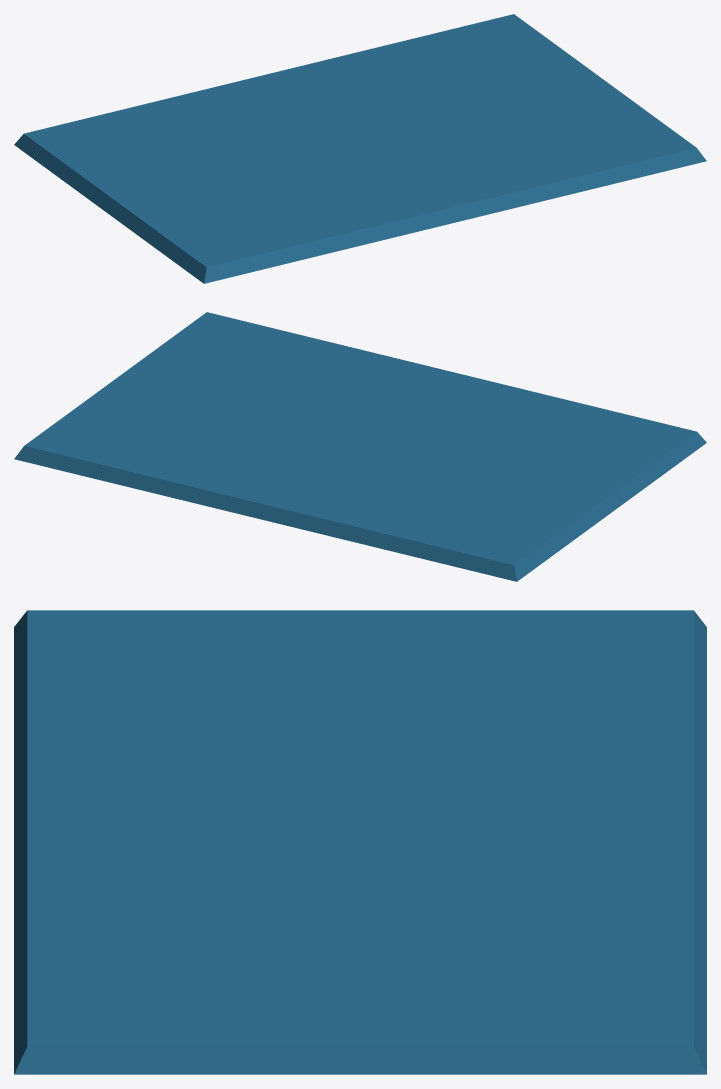
The model's file is SM_Env_Divider_Large_01_Collision.fbx.
The picture shows the model from 3 angles, top to bottom: view 1: azimuth 30°, elevation 25°; view 2: azimuth 150°, elevation 25°; view 3: azimuth 270°, elevation 25°; orthographic projection. The views are drawn at different scales.
Parts seen in each view (by area): view 1: SM_Env_Divider_Large_01_Collision; view 2: SM_Env_Divider_Large_01_Collision; view 3: SM_Env_Divider_Large_01_Collision.
Boxes of the visible parts, <box> form: SM_Env_Divider_Large_01_Collision: <box>14,14,706,283</box>; SM_Env_Divider_Large_01_Collision: <box>14,312,706,581</box>; SM_Env_Divider_Large_01_Collision: <box>14,610,706,1074</box>.
Size of the model in its own units: 1031 by 24.11 by 675.
